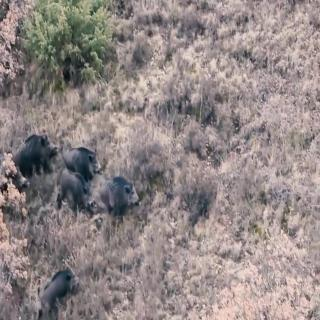Pig: (26, 258, 80, 311), (98, 172, 152, 224), (6, 120, 54, 176), (60, 166, 86, 213), (74, 138, 102, 167)
